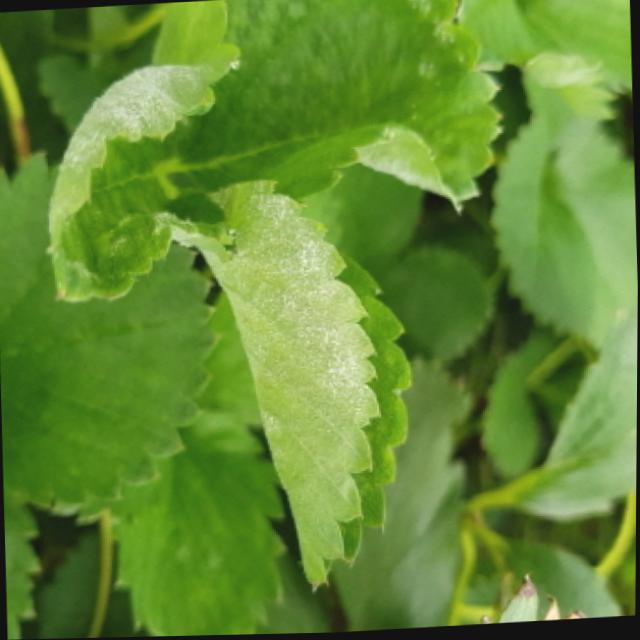Powdery Mildew Leaf: (46, 0, 506, 302), (163, 175, 414, 592)
